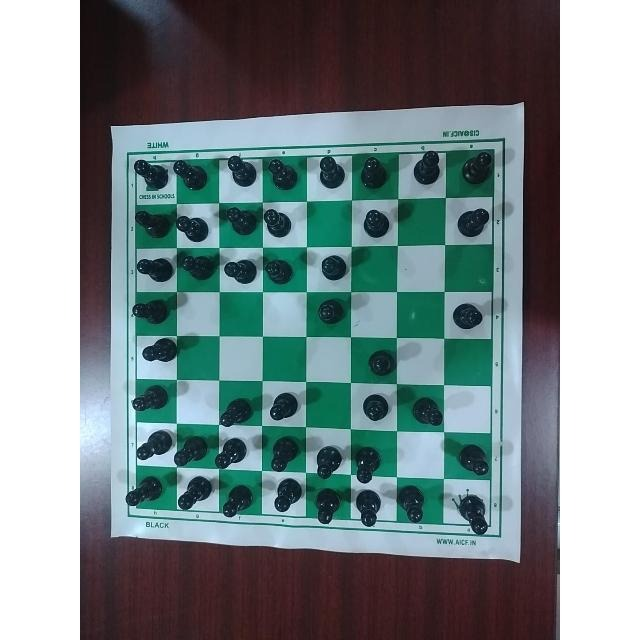black-pawn: (171, 154, 212, 191), (455, 493, 491, 535), (122, 474, 166, 508), (174, 473, 212, 512), (453, 441, 494, 477), (460, 147, 495, 189), (220, 481, 255, 523), (349, 442, 383, 485), (218, 392, 256, 430), (125, 384, 171, 414), (131, 157, 169, 193), (131, 254, 175, 285), (353, 489, 387, 529), (134, 425, 173, 459), (129, 295, 173, 325), (394, 485, 427, 525), (268, 478, 304, 514), (132, 208, 172, 240), (139, 337, 181, 367), (178, 252, 217, 284), (311, 441, 342, 481), (214, 438, 254, 469), (173, 435, 209, 469), (226, 151, 259, 188), (407, 396, 444, 429), (175, 211, 213, 243), (360, 344, 398, 376), (410, 148, 443, 184), (222, 204, 260, 235), (312, 488, 342, 527), (225, 255, 259, 289), (313, 154, 346, 189), (360, 205, 392, 241), (266, 434, 298, 470), (359, 152, 390, 189), (358, 389, 391, 423), (454, 203, 489, 235), (267, 388, 298, 424), (267, 157, 299, 191), (263, 206, 297, 238), (452, 299, 487, 330), (317, 251, 350, 282), (263, 256, 297, 286), (315, 298, 347, 326)
